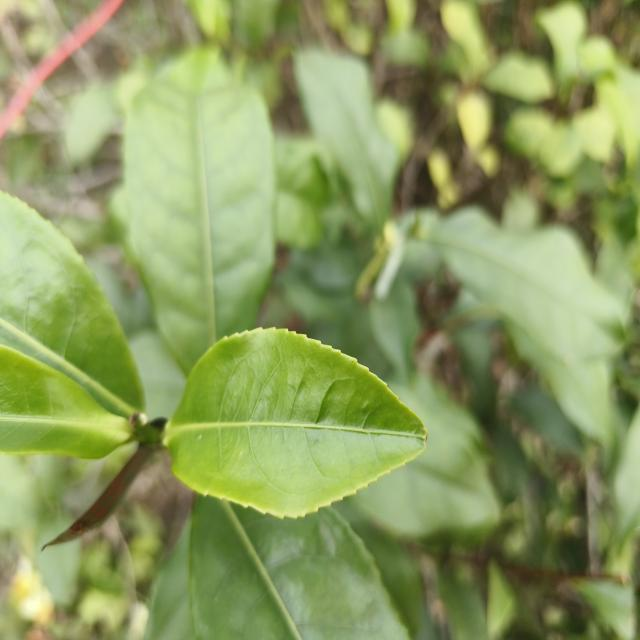Leaf: (164, 328, 427, 517), (124, 50, 276, 373), (0, 192, 144, 418), (189, 497, 409, 640), (427, 207, 622, 363), (352, 374, 499, 537), (294, 49, 399, 231), (0, 346, 132, 459), (507, 323, 613, 448), (276, 138, 335, 249), (369, 279, 420, 382), (508, 387, 582, 454), (64, 85, 117, 165), (35, 515, 81, 606), (484, 51, 554, 103), (614, 405, 640, 539), (456, 91, 491, 152)
